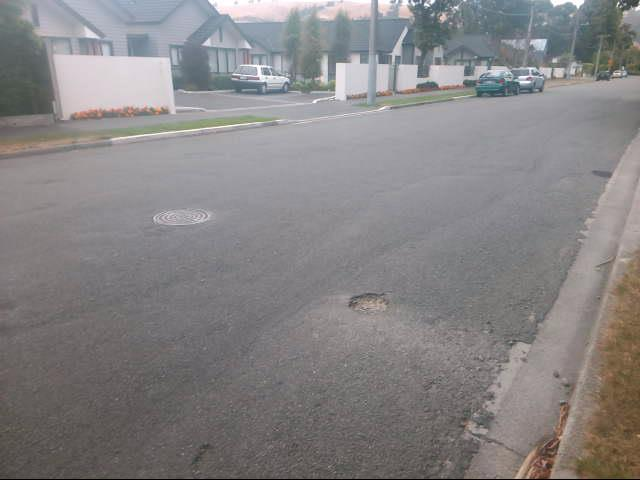pothole: (342, 291, 395, 316)
